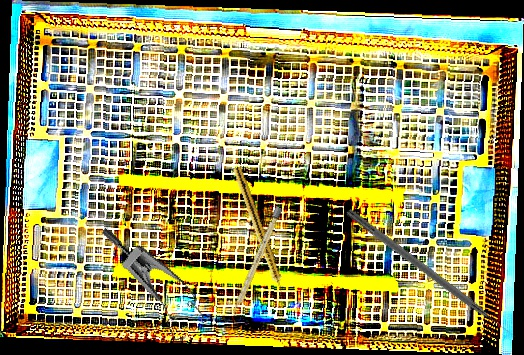Handpiece: (230, 166, 288, 298)
Hook Surgical: (343, 206, 519, 343)
Scalpel Handle: (230, 206, 283, 317)
Speculum: (73, 226, 225, 350)
